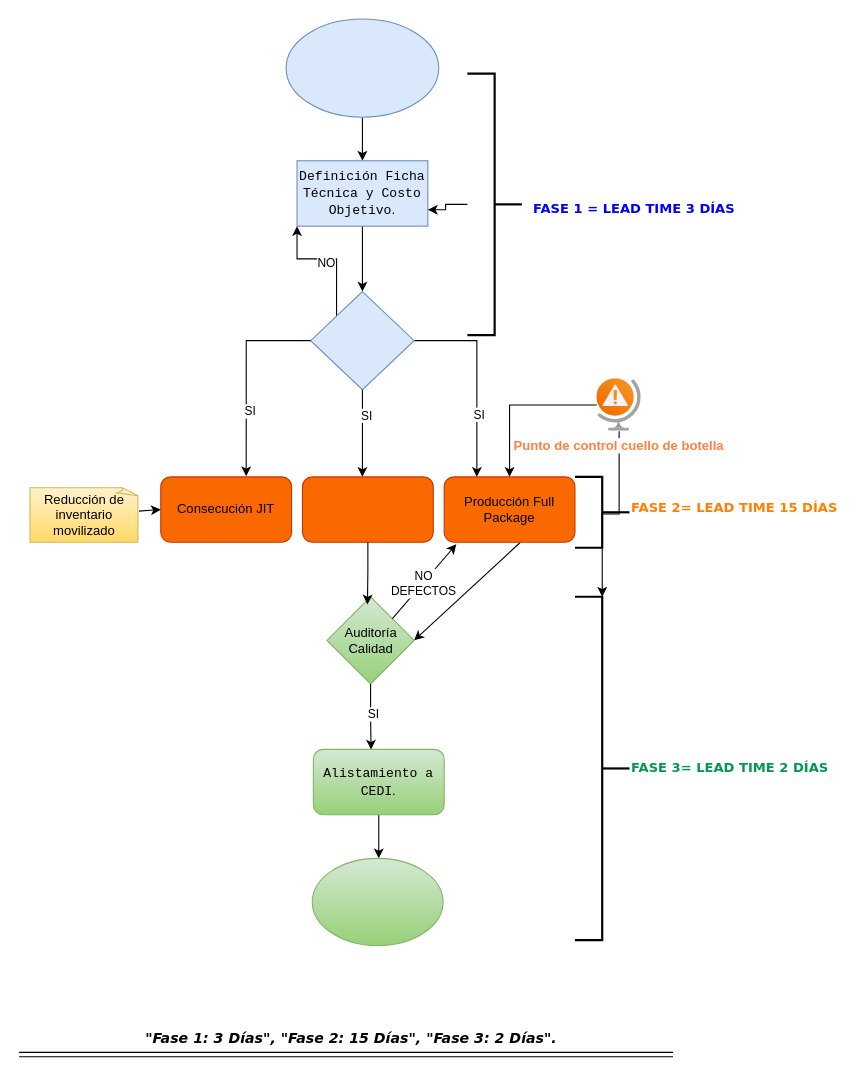
This 867x1076 diagram has some shape labels left out. The box of each missing label's shape, as (x1, y1, x2, y2) in pixels:
Corte y Balanceo: (301, 476, 433, 542)
Fin Despacho y Exportación: (311, 857, 443, 946)
INICIO Recepción Requerimiento B2B .: (285, 18, 439, 117)
¿Aprobación?: (310, 290, 414, 390)
